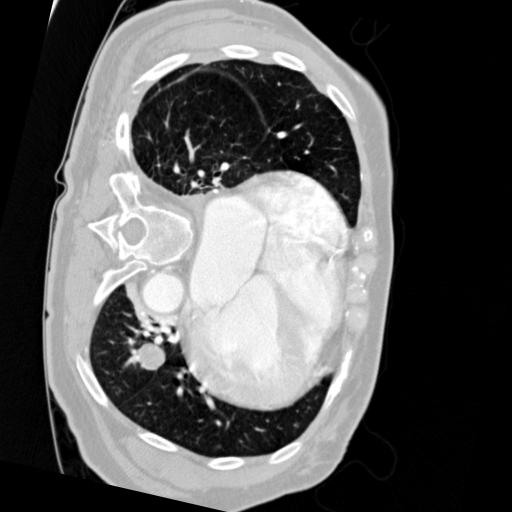nodule: (133, 336, 174, 377)
